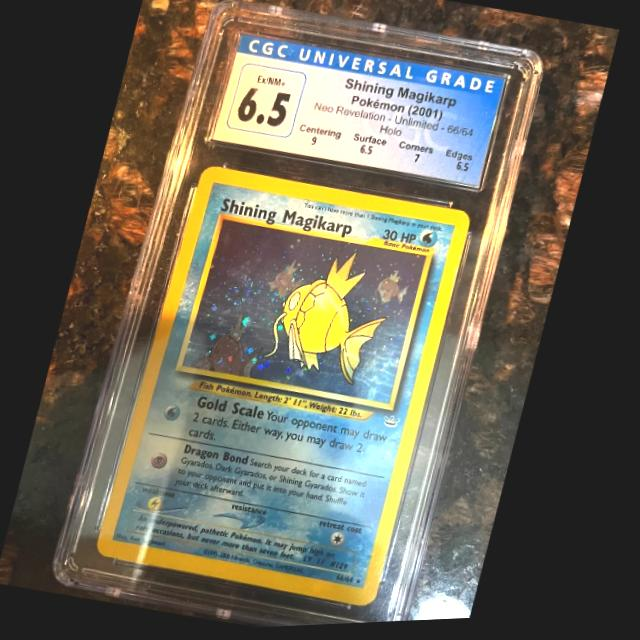card: (98, 165, 474, 611)
cgc_label_old: (210, 34, 506, 191)
cgc_slab: (50, 0, 546, 629)
